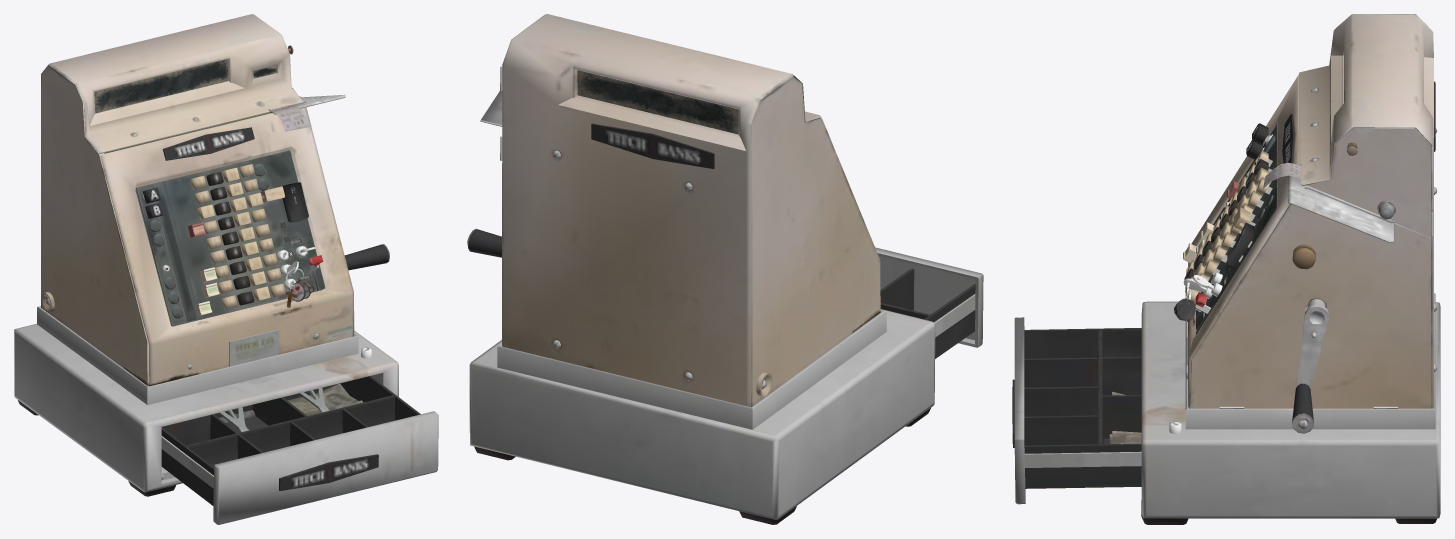
Rendered from ph_CashRegister_01.glb.
3 renders of one model, left to right at view 1: azimuth 30°, elevation 25°; view 2: azimuth 150°, elevation 25°; view 3: azimuth 270°, elevation 25°, orthographic. The views are drawn at different scales.
Visible parts, largest first — view 1: CashRegister_01_body; view 2: CashRegister_01_body; view 3: CashRegister_01_body.
Boxes of the visible parts, <box> form: CashRegister_01_body: <box>14,14,438,524</box>; CashRegister_01_body: <box>467,14,983,524</box>; CashRegister_01_body: <box>1012,14,1440,524</box>.
Bounding box in the file's own units: 0.6005 × 0.6212 × 0.6242.
2 materials, 2 textured.
